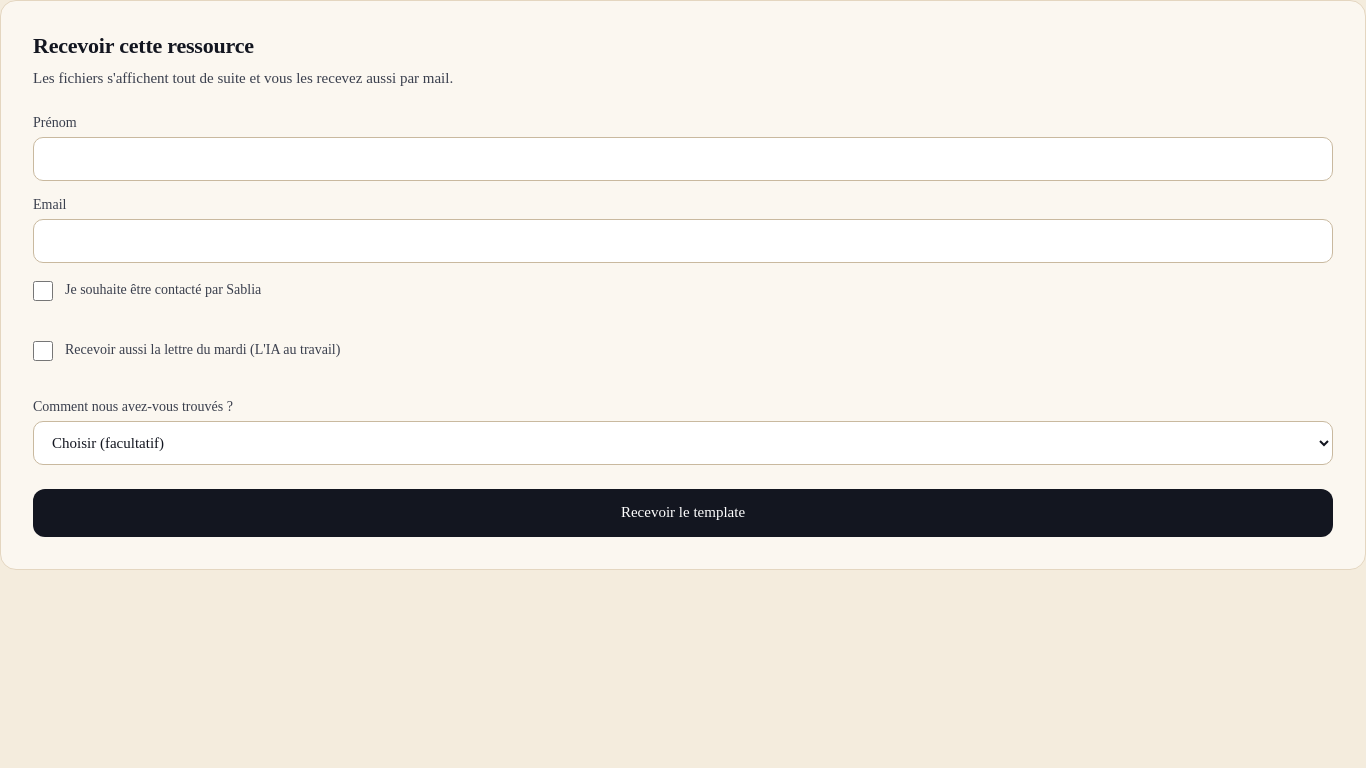
RessourceForm: the newsletter box (US-82, US-84) › lettre du mardi: box ticked, the success screen says so and offers no link
In the field labelled "Prénom": (683, 159) x1=33 y1=137 x2=1333 y2=181, type "Camille"
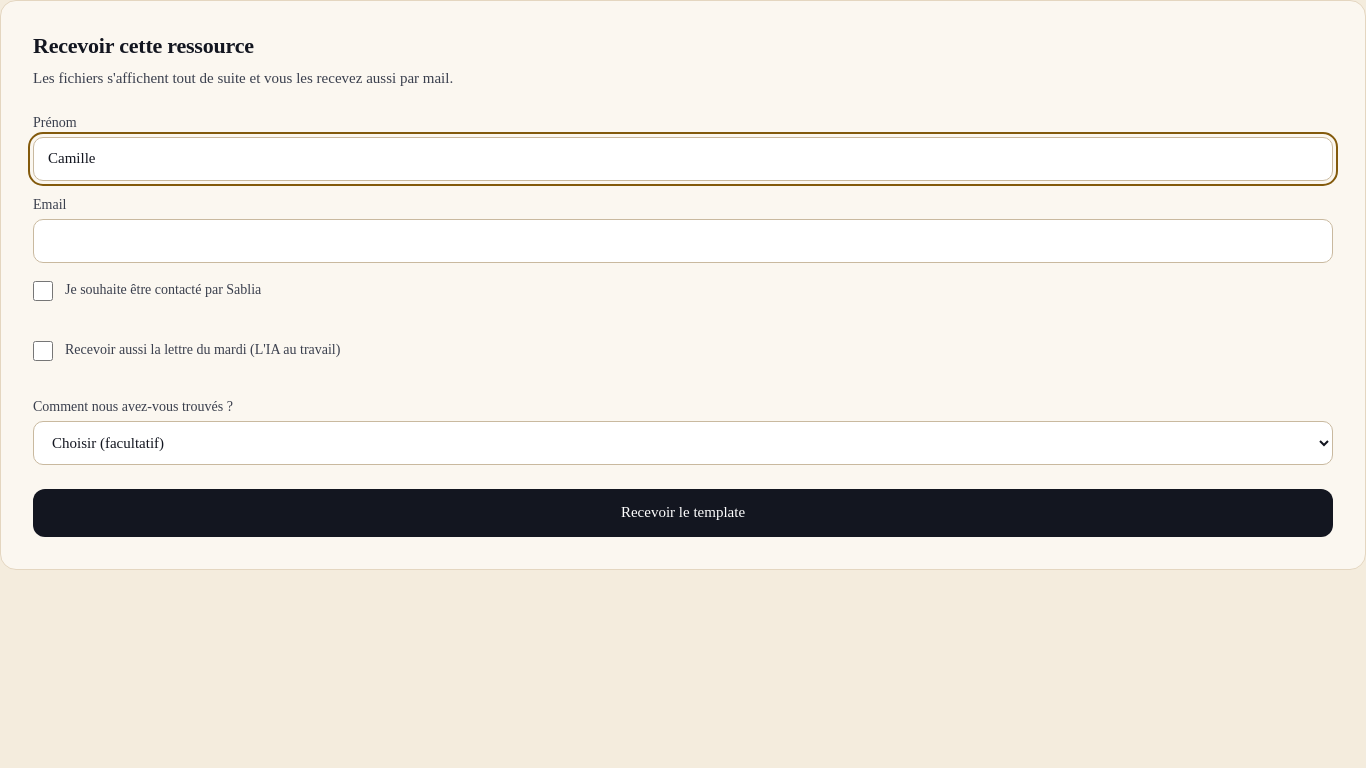
In the field labelled "Email": (683, 241) x1=33 y1=219 x2=1333 y2=263, type "camille@exemple.fr"
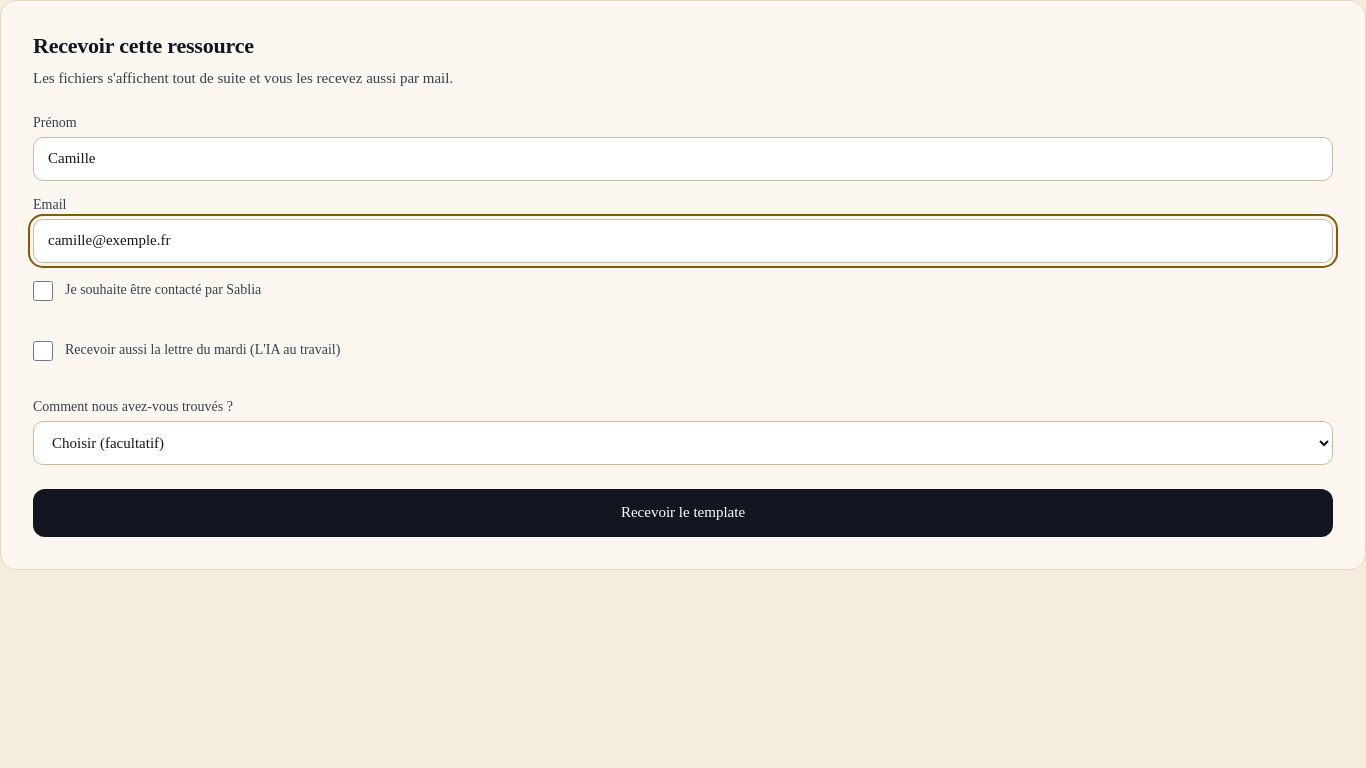
Click the checkbox labelled "Recevoir aussi la lettre du mardi (L'IA au travail)": (43, 351) x1=33 y1=341 x2=53 y2=361
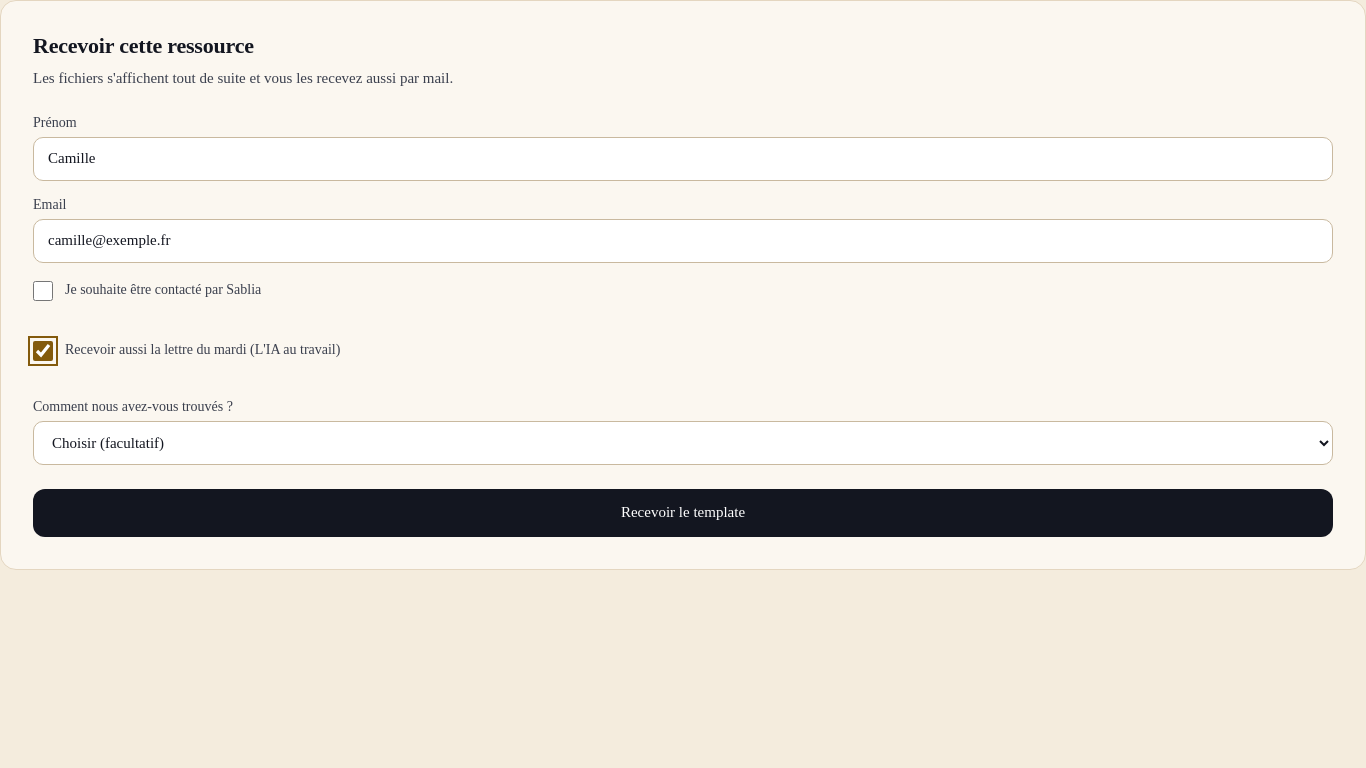
Click the button "Recevoir le template": (683, 513) x1=33 y1=489 x2=1333 y2=537
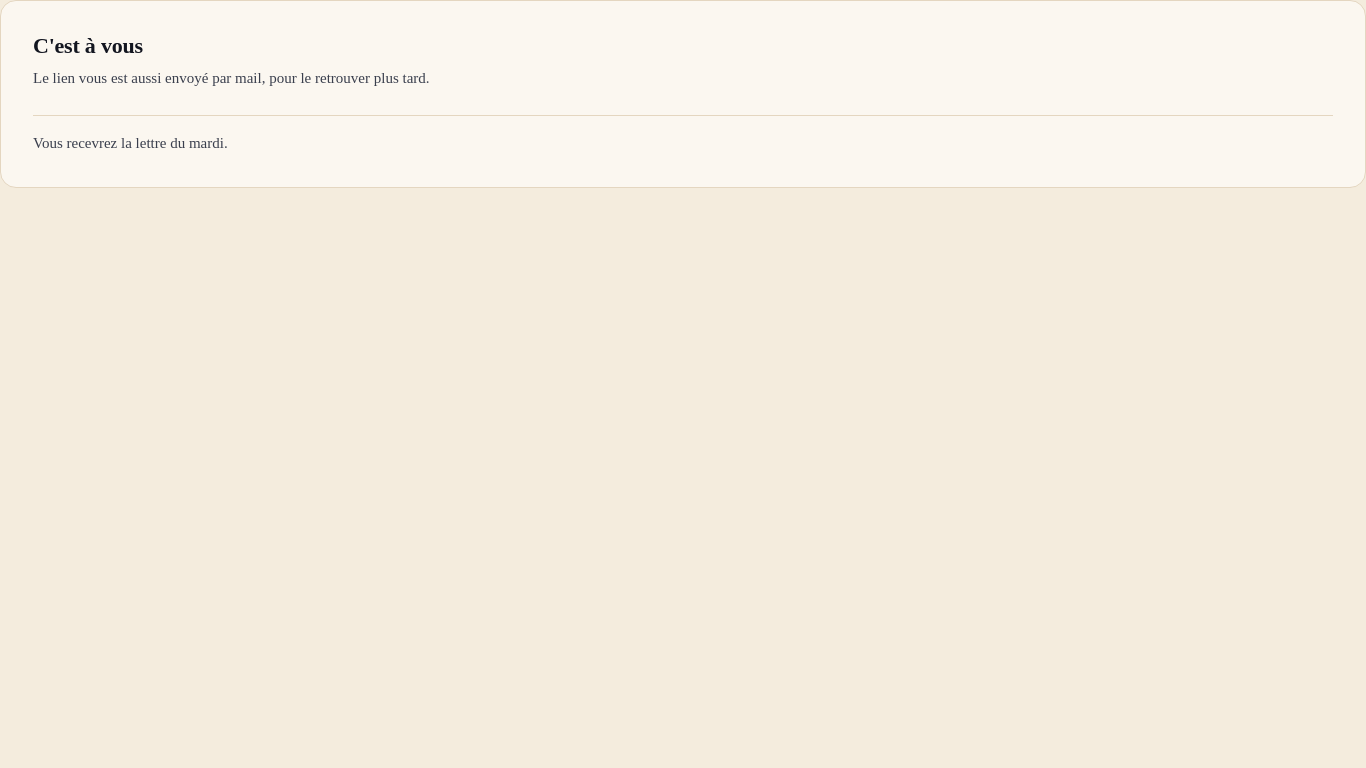
Check: the text "Vous recevrez la lettre du mardi." is shown, box x1=33 y1=115 x2=1333 y2=155
